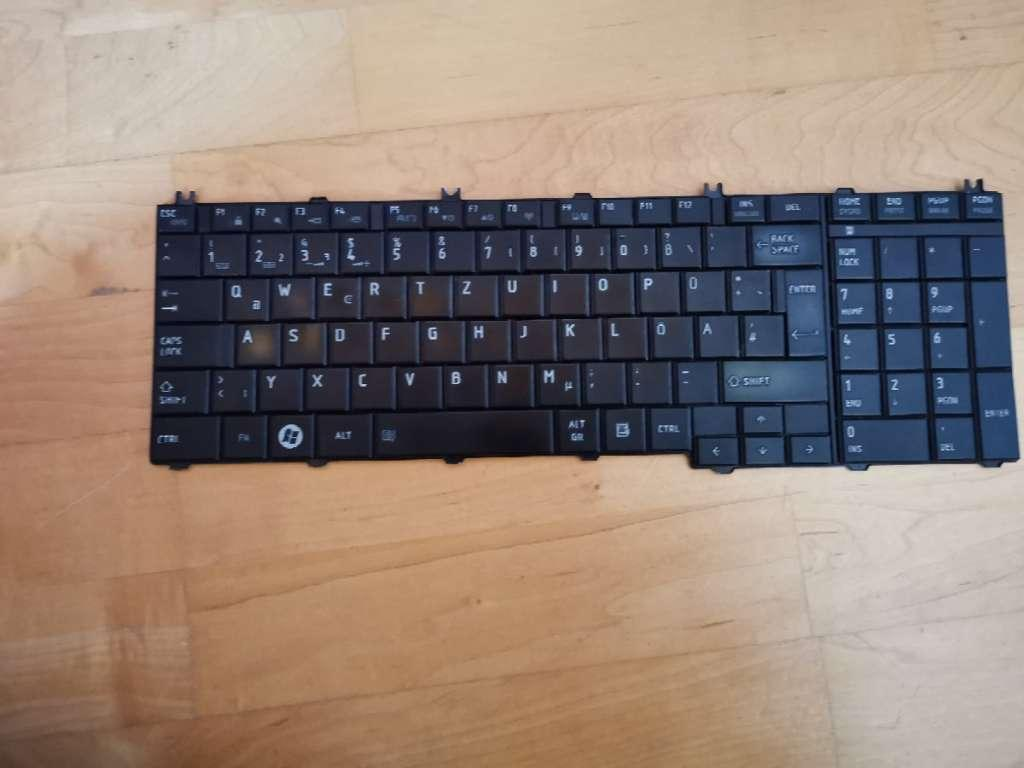0: (610, 223, 652, 267)
1: (198, 230, 243, 274)
2: (245, 229, 289, 273)
3: (290, 228, 335, 272)
4: (337, 229, 378, 271)
5: (381, 228, 425, 270)
6: (428, 226, 471, 270)
7: (475, 226, 516, 269)
8: (519, 225, 561, 268)
9: (565, 223, 607, 267)
a: (233, 320, 275, 363)
accent: (702, 221, 744, 265)
ae: (694, 311, 735, 355)
alt-left: (314, 409, 369, 455)
altgr-right: (553, 404, 597, 450)
b: (439, 361, 483, 405)
c: (348, 363, 390, 407)
caret: (154, 230, 195, 274)
comma: (580, 357, 621, 402)
d: (324, 317, 368, 362)
del: (746, 219, 818, 263)
e: (314, 272, 357, 317)
enter: (772, 262, 823, 353)
f: (372, 318, 412, 360)
g: (416, 316, 459, 360)
h: (463, 316, 506, 359)
hash: (740, 311, 780, 353)
i: (543, 270, 584, 312)
j: (511, 315, 552, 358)
k: (556, 314, 596, 357)
keyboard: (119, 183, 1022, 473)
l: (603, 313, 643, 357)
less: (207, 365, 252, 410)
m: (533, 358, 576, 403)
minus: (672, 357, 713, 400)
n: (486, 360, 528, 404)
o: (587, 269, 628, 312)
oe: (648, 312, 689, 356)
p: (633, 267, 676, 311)
plus: (726, 265, 767, 308)
point: (626, 358, 667, 401)
q: (220, 274, 266, 319)
r: (359, 272, 402, 315)
s: (278, 318, 320, 362)
shift-left: (149, 367, 203, 412)
shift-lock: (150, 319, 229, 365)
shift-right: (716, 354, 825, 399)
space: (372, 406, 549, 454)
ss: (656, 222, 698, 265)
strg-left: (146, 411, 215, 460)
strg-right: (646, 402, 688, 448)
t: (406, 271, 446, 314)
tab: (153, 275, 216, 320)
u: (496, 270, 538, 314)
ue: (679, 266, 722, 310)
v: (393, 362, 437, 406)
w: (267, 273, 311, 317)
x: (301, 364, 345, 407)
y: (254, 364, 297, 408)
z: (450, 271, 493, 315)
